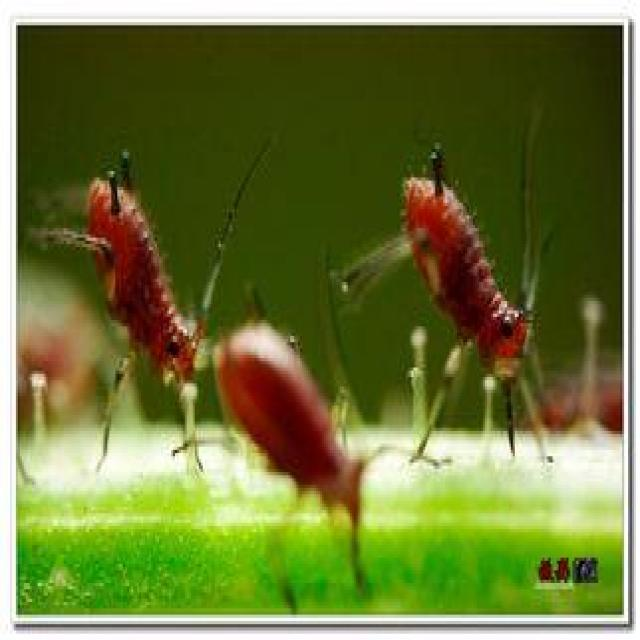Aphids: (172, 267, 416, 600), (361, 131, 587, 486), (27, 122, 233, 477)
